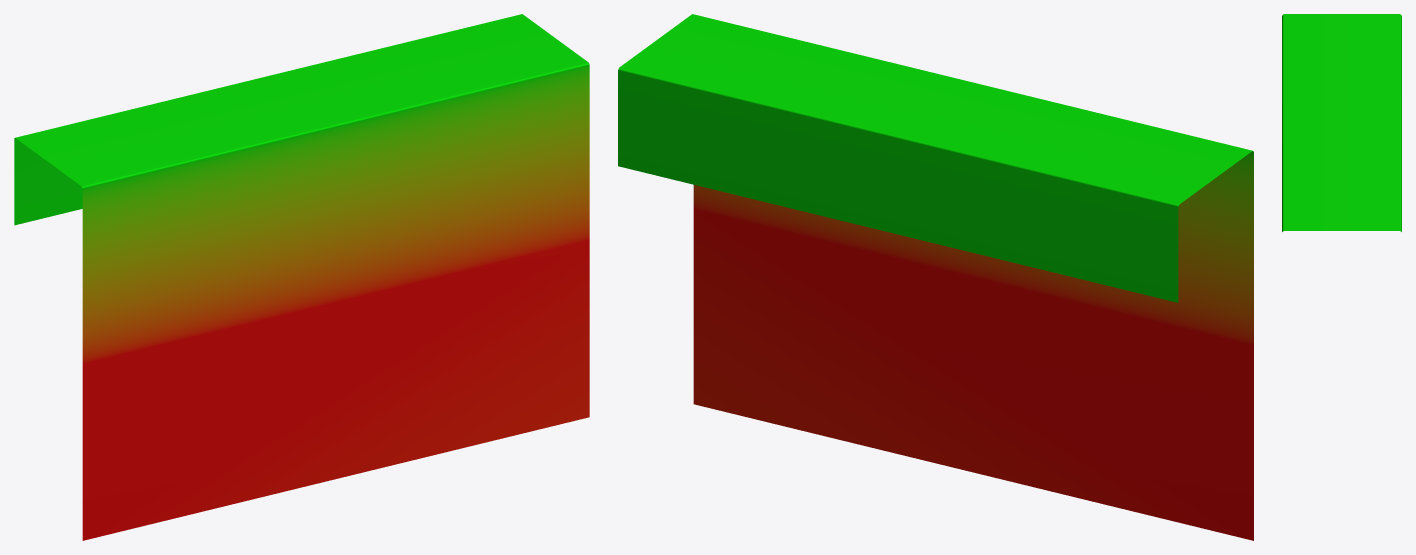
Rendered from WallKit_Foundation_3m_LOD0.fbx.
The picture shows the model from 3 angles, left to right: view 1: azimuth 30°, elevation 25°; view 2: azimuth 150°, elevation 25°; view 3: azimuth 270°, elevation 25°; orthographic projection. The views are drawn at different scales.
Parts seen in each view (by area): view 1: WallKit_Foundation_3m_LOD0; view 2: WallKit_Foundation_3m_LOD0; view 3: WallKit_Foundation_3m_LOD0.
Part boxes in pixels (x1=…): WallKit_Foundation_3m_LOD0: x1=14, y1=14, x2=589, y2=540; WallKit_Foundation_3m_LOD0: x1=618, y1=14, x2=1253, y2=540; WallKit_Foundation_3m_LOD0: x1=1282, y1=14, x2=1401, y2=231.
Bounding box in the file's own units: 300 × 200 × 70.
